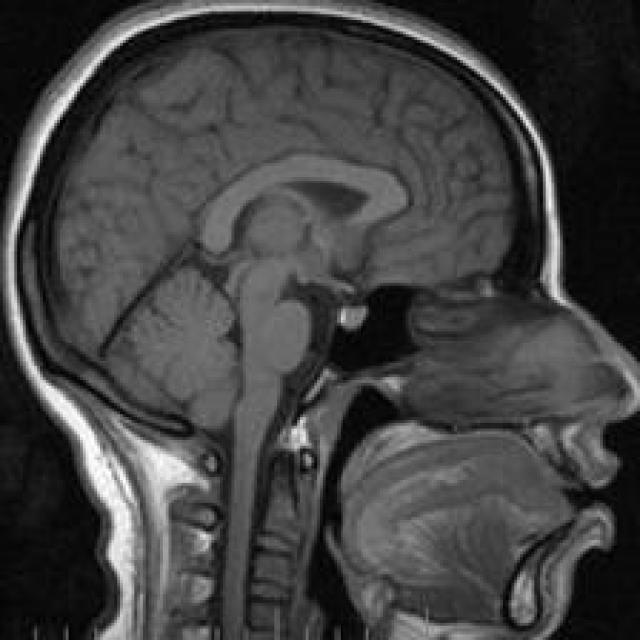no_tumor: (10, 4, 583, 469)
